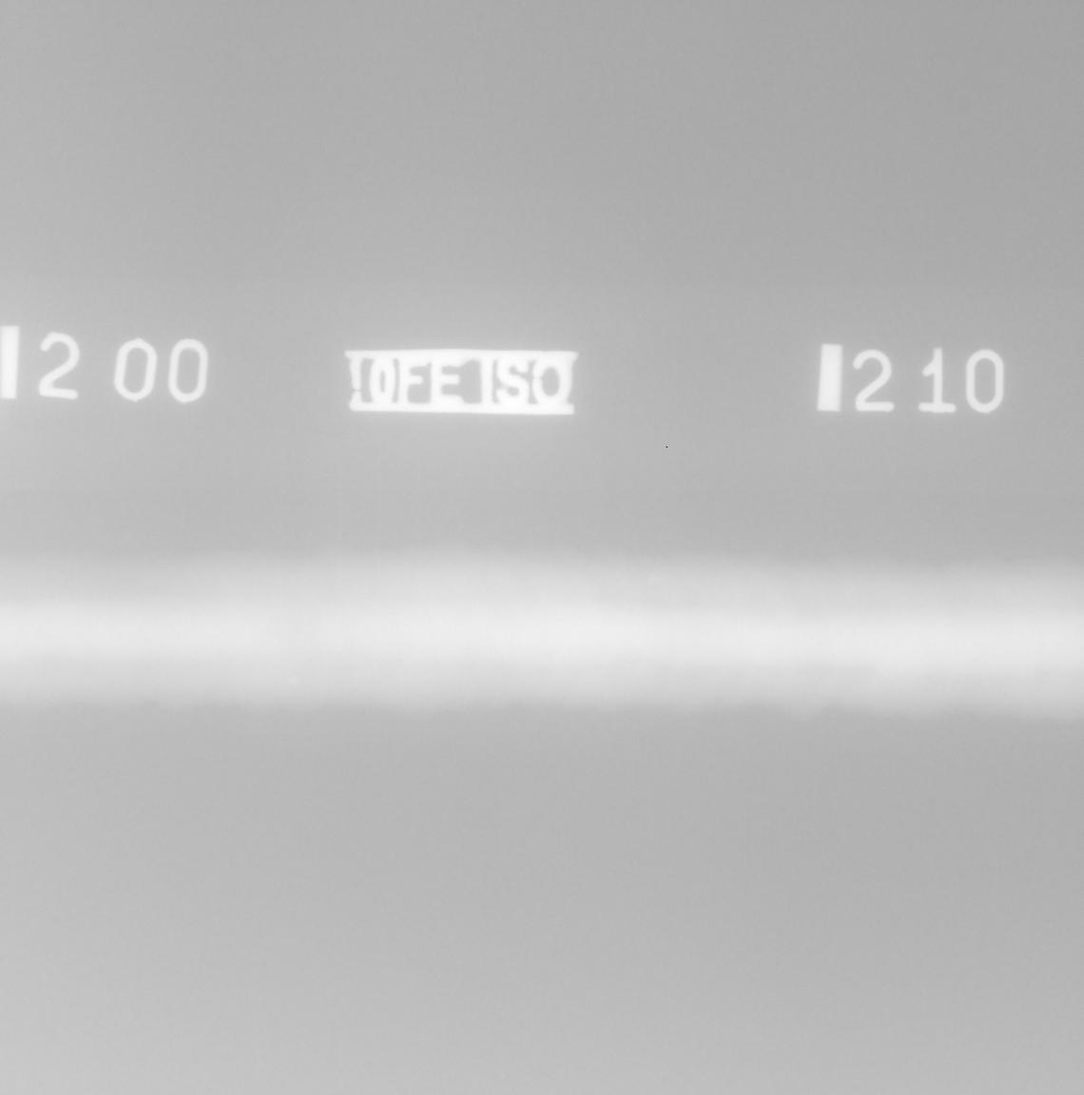Pore/Porosity: (1041, 644, 1044, 648)
